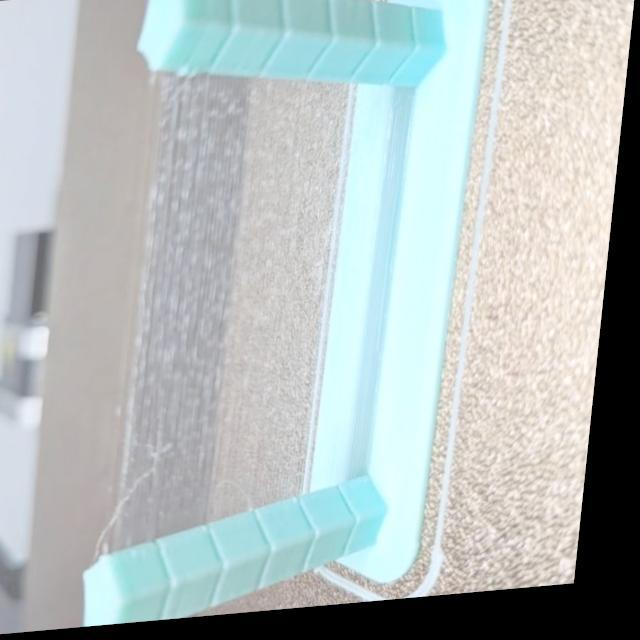stringing: (113, 31, 419, 560)
